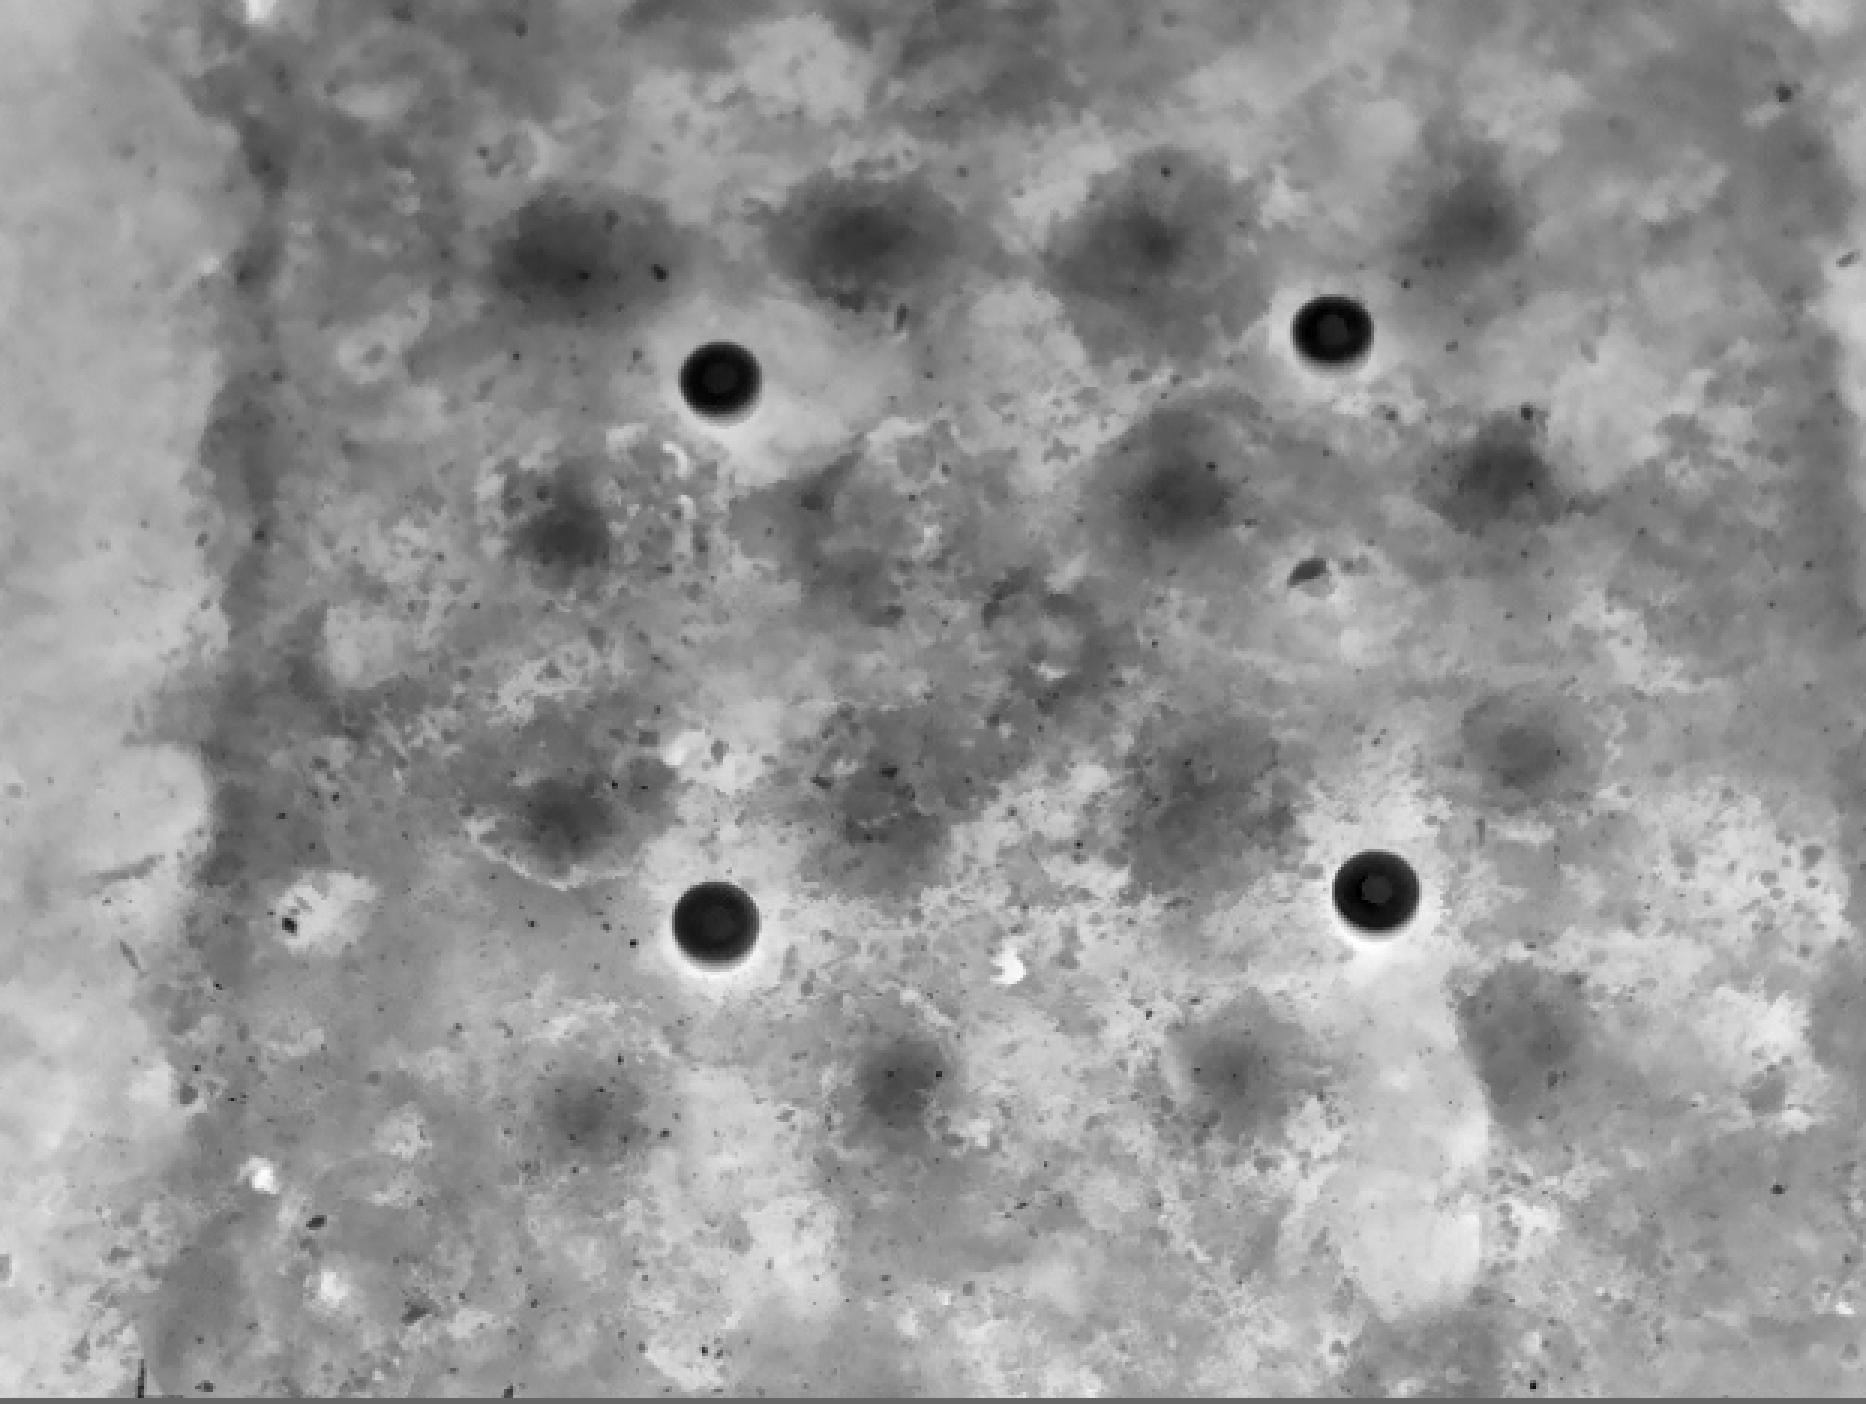mines-gjV8: (1342, 821, 1416, 944), (681, 335, 773, 420), (684, 882, 771, 962), (1288, 316, 1384, 372)
